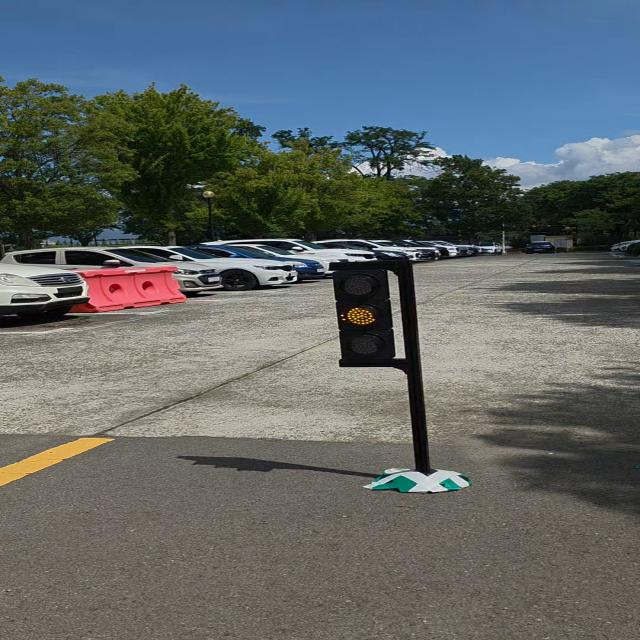yellow: (328, 262, 398, 366)
